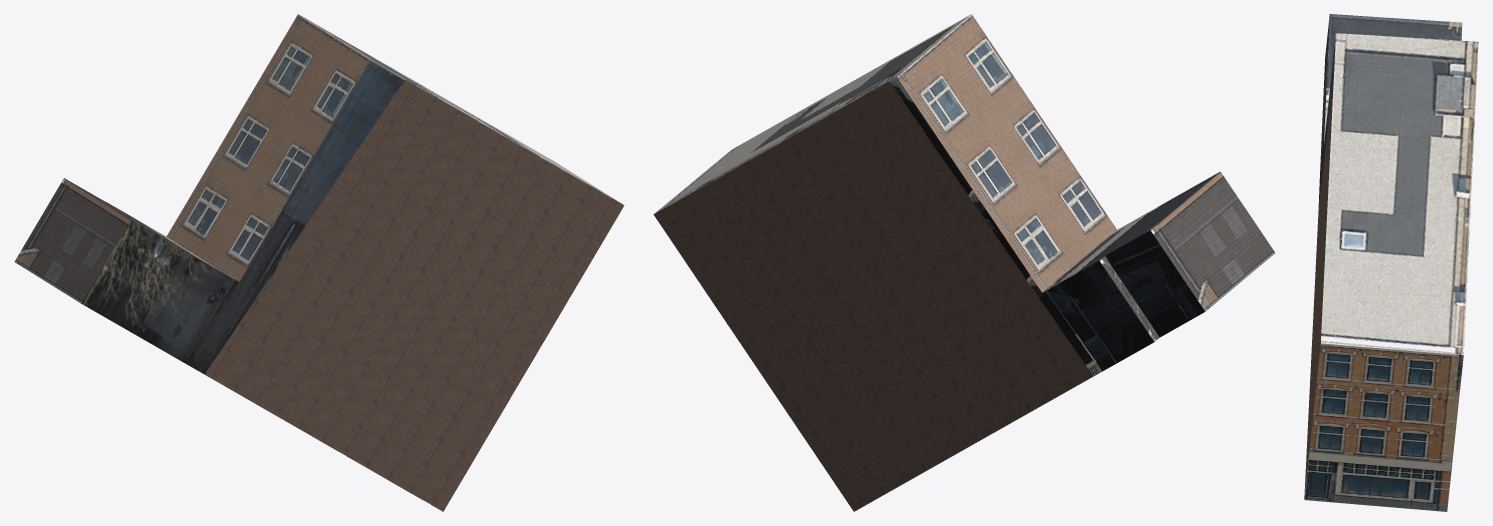
3 views of the same model, side by side, from view 1: azimuth 30°, elevation 25°; view 2: azimuth 150°, elevation 25°; view 3: azimuth 270°, elevation 25° (orthographic). The views are drawn at different scales.
Parts seen in each view (by area): view 1: BAG_0599100000671694 (×4); view 2: BAG_0599100000671694 (×5); view 3: BAG_0599100000671694 (×4).
Part boxes in pixels (x1=…): BAG_0599100000671694 (×4): x1=14, y1=14, x2=624, y2=511; BAG_0599100000671694 (×5): x1=653, y1=14, x2=1275, y2=511; BAG_0599100000671694 (×4): x1=1304, y1=14, x2=1478, y2=511.
Bounding box in the file's own units: 27.11 × 22.15 × 7.77.
Materials: 1 (1 with a texture image).
